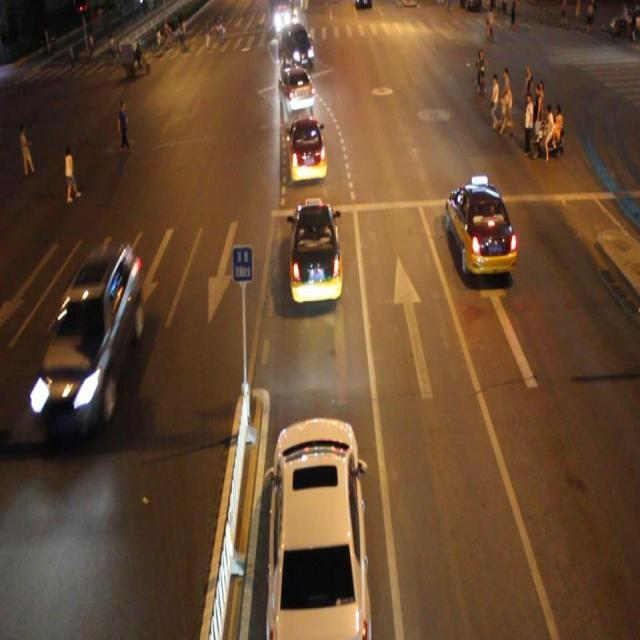car: (264, 416, 370, 640), (36, 242, 142, 431), (446, 182, 515, 272), (288, 202, 341, 301), (287, 115, 327, 181), (277, 21, 314, 66), (278, 67, 314, 113)
